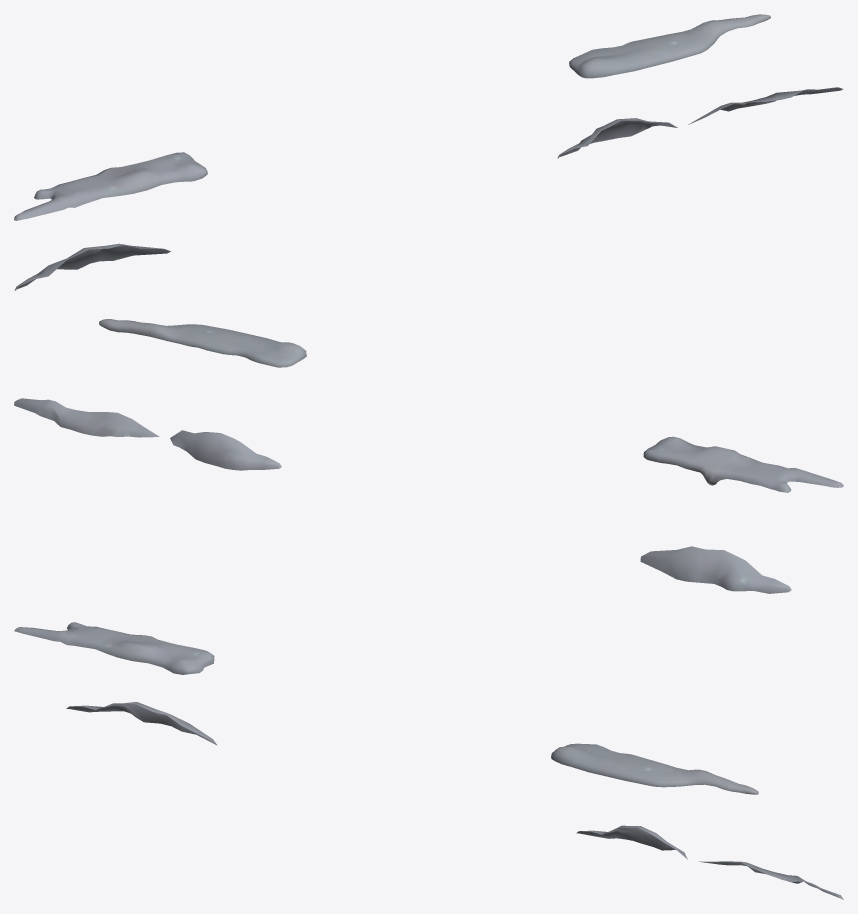
The model's file is pref_sm_beach_winter_snow12_lv3.fbx.
3 views of the same model, one above another, from view 1: azimuth 30°, elevation 25°; view 2: azimuth 150°, elevation 25°; view 3: azimuth 330°, elevation 25° (orthographic). The views are drawn at different scales.
Visible parts, largest first — view 1: pref_sm_beach_winter_snow12_lv3; view 2: pref_sm_beach_winter_snow12_lv3; view 3: pref_sm_beach_winter_snow12_lv3.
Boxes of the visible parts, x1,y1,x2,y2 form: pref_sm_beach_winter_snow12_lv3: (14, 14, 843, 290); pref_sm_beach_winter_snow12_lv3: (14, 319, 843, 593); pref_sm_beach_winter_snow12_lv3: (14, 622, 843, 899).
Size of the model in its own units: 14.9 by 1.93 by 1.41.
